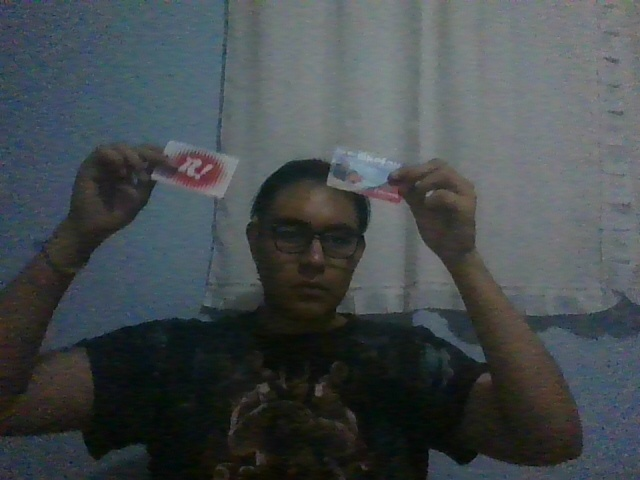tarjeta: (149, 139, 240, 199), (325, 146, 406, 205)
